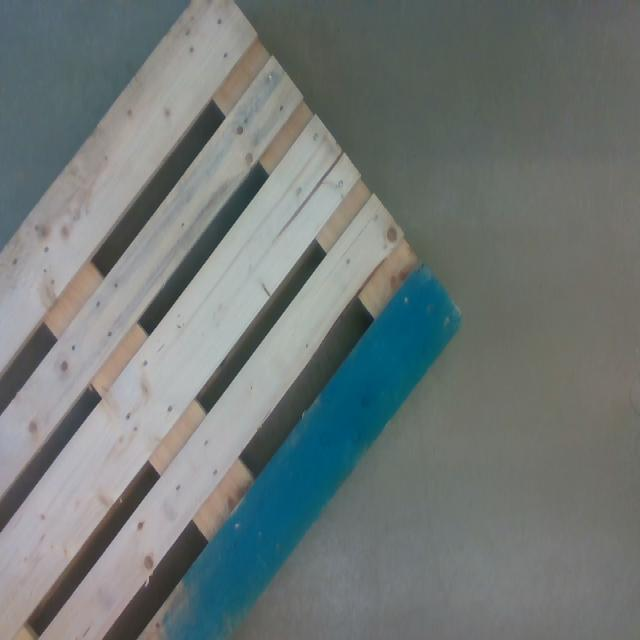pallet: (0, 2, 465, 640)
